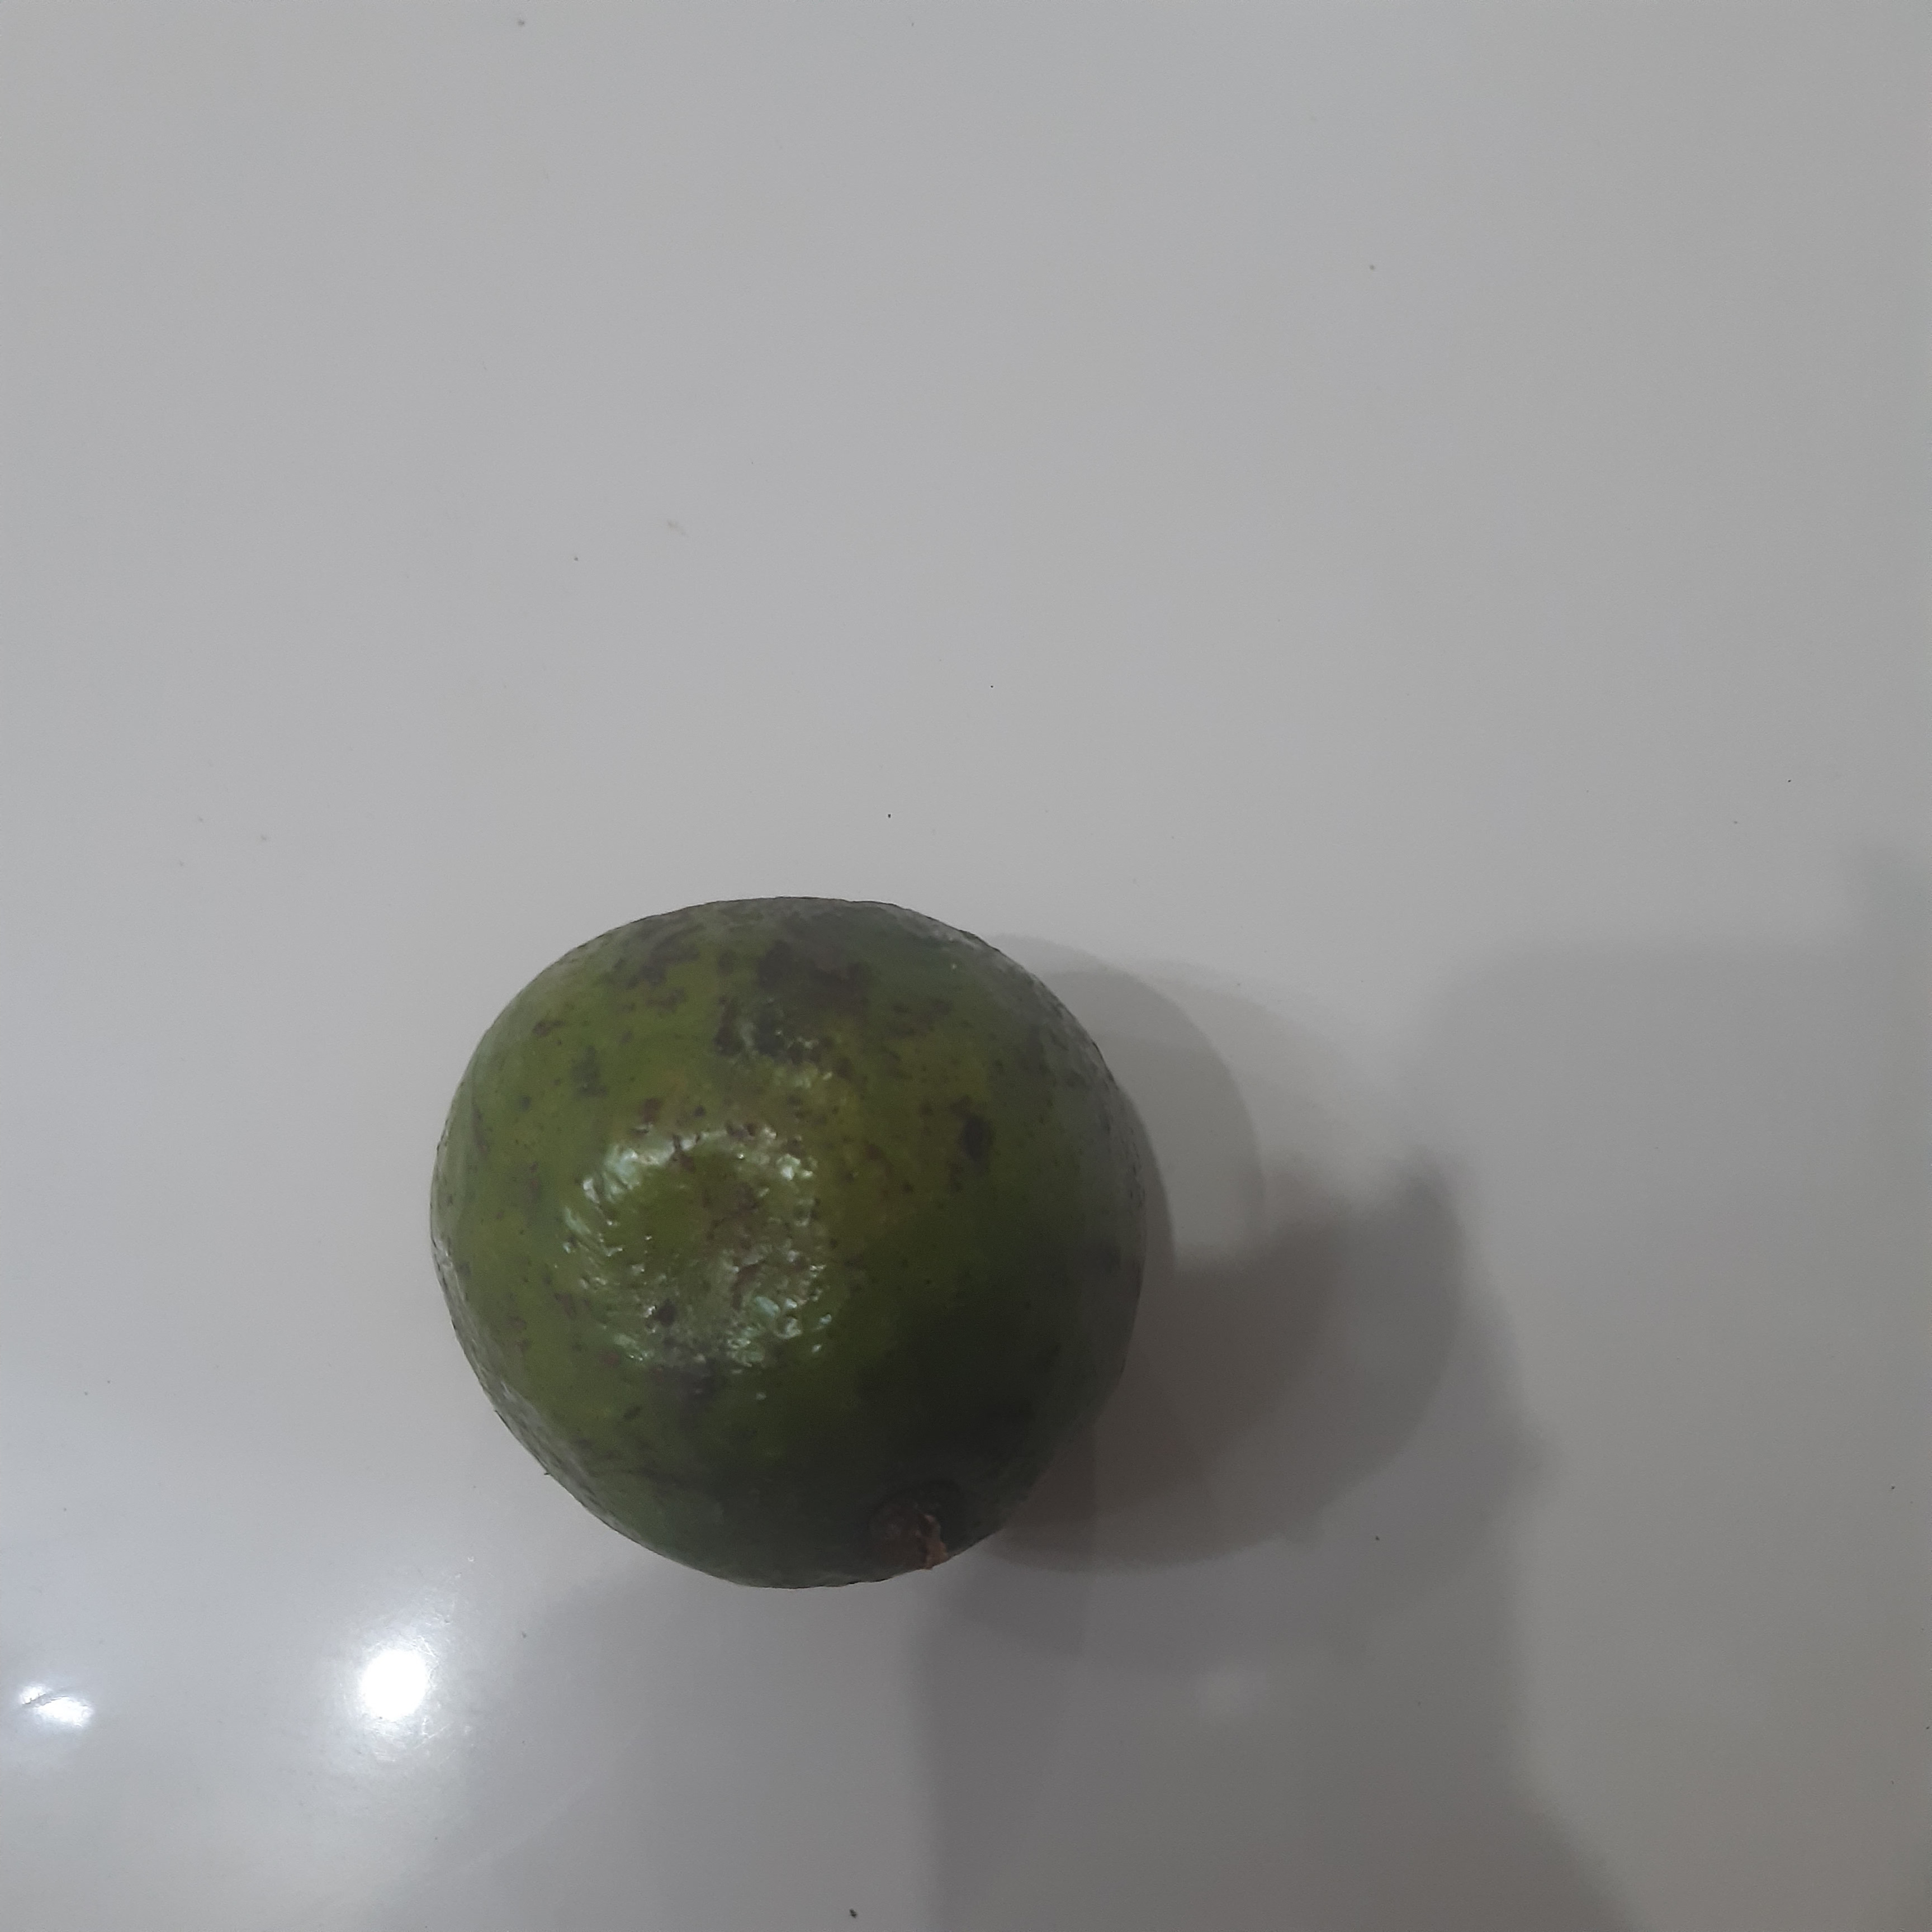Bo: (428, 901, 1143, 1587)
